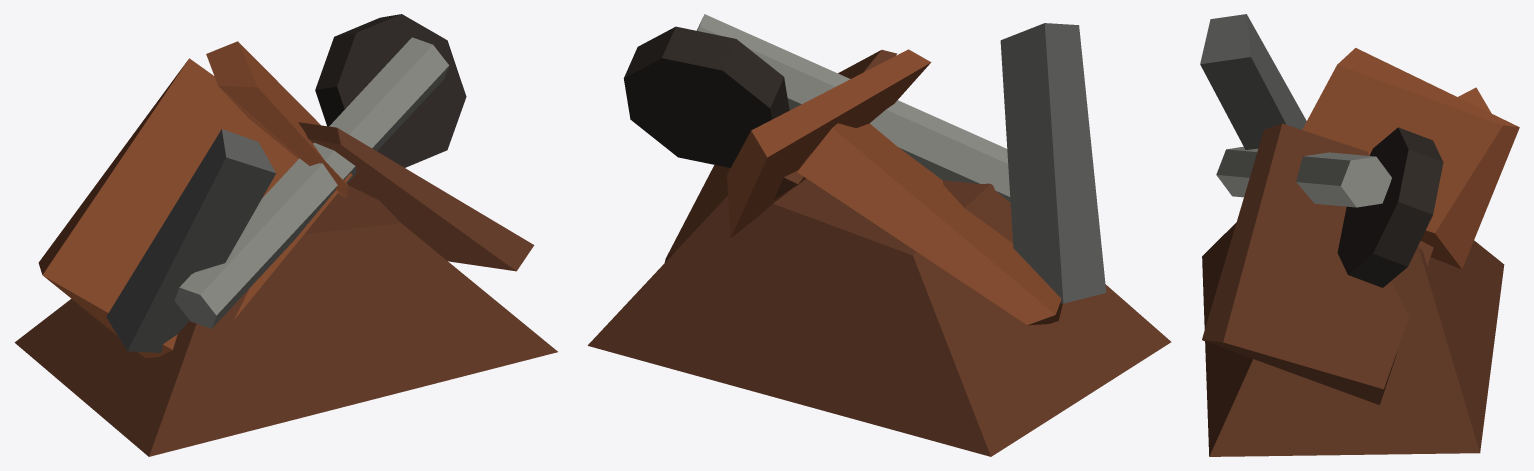
File: good_scrap.glb
3 views of the same model, side by side, from view 1: azimuth 30°, elevation 25°; view 2: azimuth 150°, elevation 25°; view 3: azimuth 270°, elevation 25° (orthographic). The views are drawn at different scales.
Parts seen in each view (by area): view 1: good_scrap; view 2: good_scrap; view 3: good_scrap.
Boxes of the visible parts, left/top/right/bottom form: good_scrap: left=14, top=14, right=557, bottom=456; good_scrap: left=587, top=14, right=1171, bottom=456; good_scrap: left=1200, top=14, right=1519, bottom=456.
Size of the model in its own units: 0.61 by 0.407 by 0.4081.
